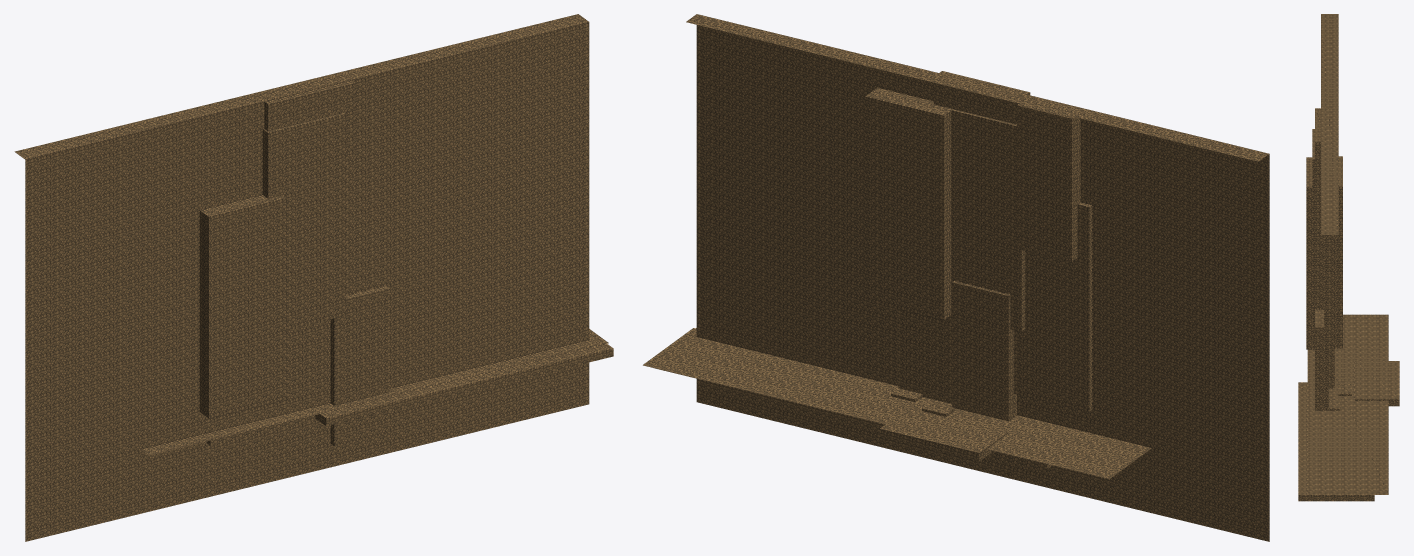
The model's file is back.fbx.
3 renders of one model, left to right at view 1: azimuth 30°, elevation 25°; view 2: azimuth 150°, elevation 25°; view 3: azimuth 270°, elevation 25°, orthographic. The views are drawn at different scales.
Visible parts, largest first — view 1: Cube.019, Cube.022, Cube.020, Cube.021; view 2: Cube.019, Cube.022, Cube.021, Cube.020; view 3: Cube.021, Cube.022, Cube.019, Cube.020.
Part boxes in pixels (<box>): Cube.019: <box>14,14,589,541</box>; Cube.022: <box>199,80,389,445</box>; Cube.020: <box>207,344,613,445</box>; Cube.021: <box>141,329,608,455</box>; Cube.019: <box>686,14,1269,541</box>; Cube.022: <box>865,71,1092,421</box>; Cube.021: <box>643,328,1151,479</box>; Cube.020: <box>663,328,1052,469</box>; Cube.021: <box>1307,314,1388,494</box>; Cube.022: <box>1306,108,1342,410</box>; Cube.019: <box>1321,14,1338,234</box>; Cube.020: <box>1298,361,1399,501</box>.
Bounding box in the file's own units: 9140 × 5800 × 1740.
